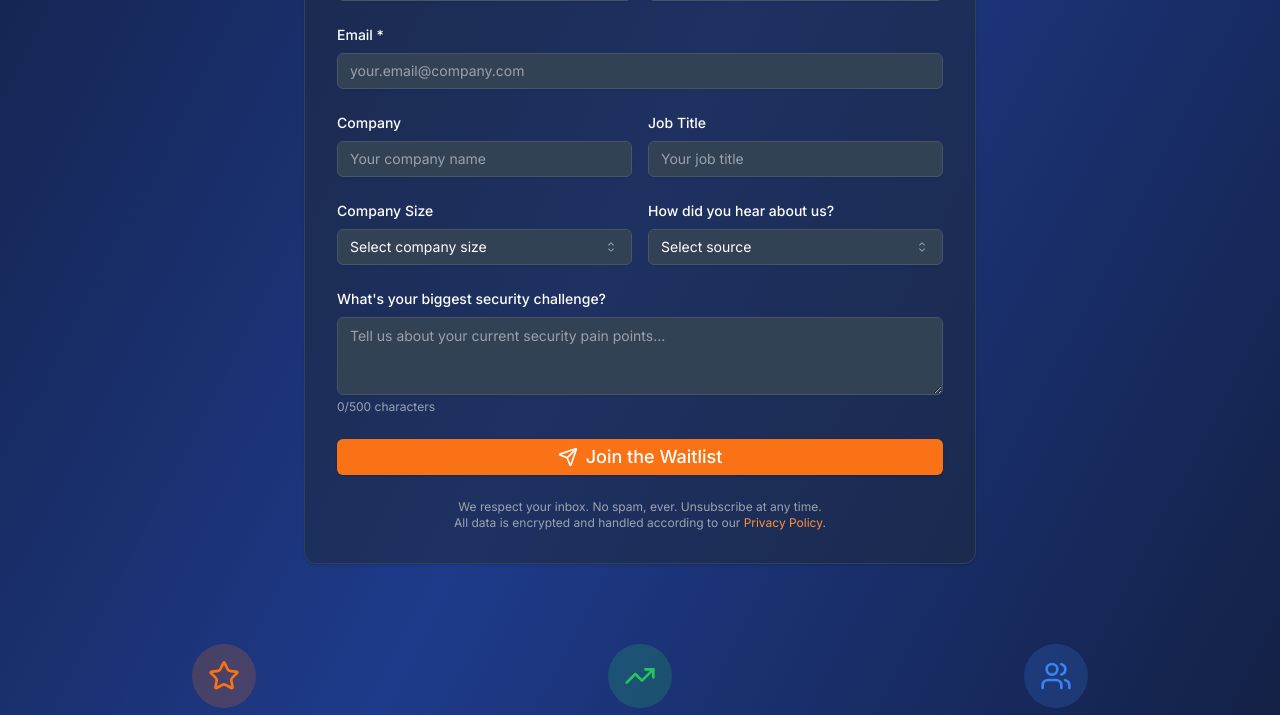
Test: Waitlist Page - Comprehensive Test Suite › Form Input Handling › should show character count for use case field
(page scrolled)
Type "Testmessage" into the text box with placeholder "Tell us about your current security pain points...".
click(640, 356); type("Testmessage")  # box x1=337 y1=316 x2=943 y2=394
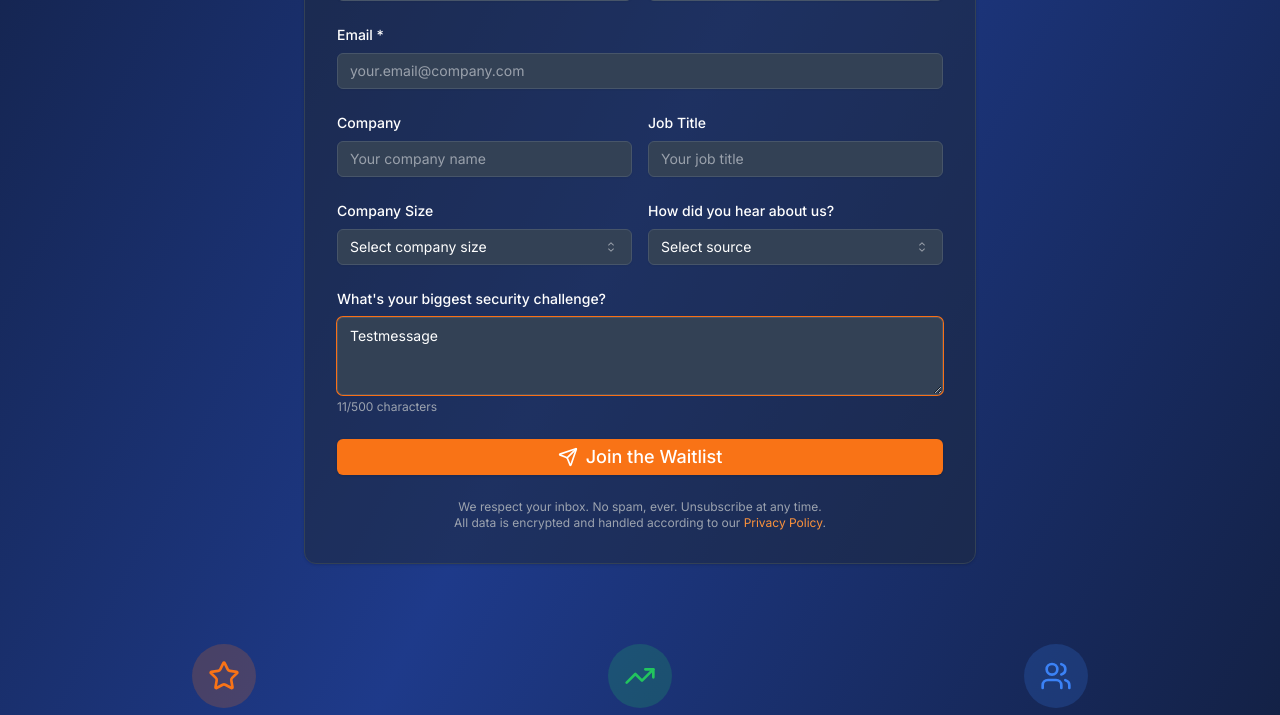
Now the text "11/500 characters" is shown, box x1=337 y1=398 x2=437 y2=414
